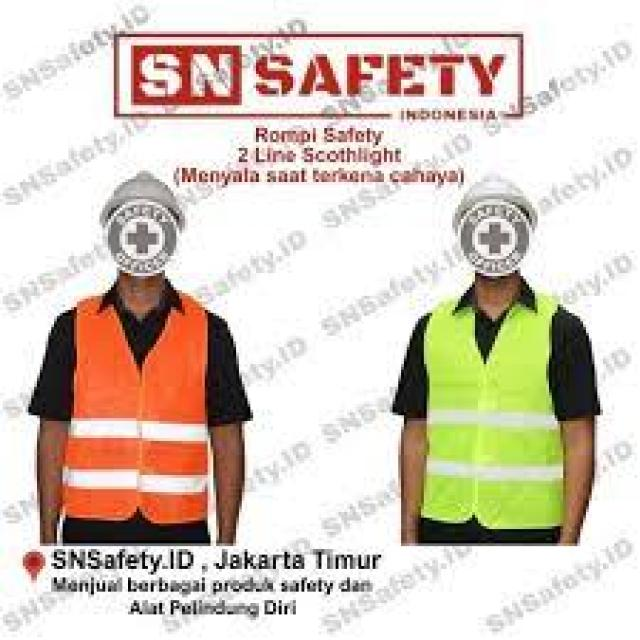vest: (427, 300, 569, 539), (67, 296, 215, 523)
